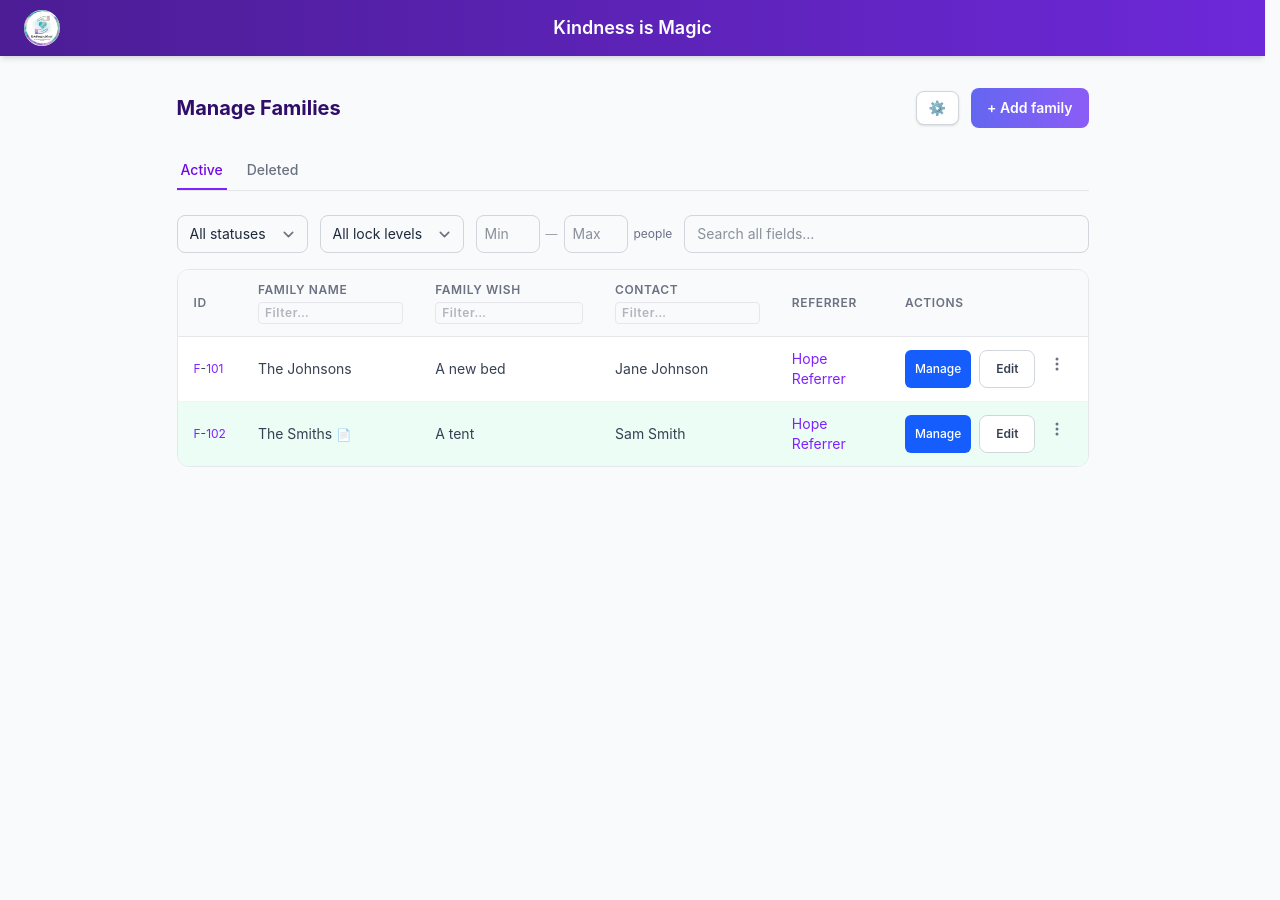
Test: AdminFamilies › row Send email opens the composer prefilled with the family contact email
Expected: the text "The Johnsons" is shown, [242, 336, 419, 402]
Step 1. Click the button named "More actions" in the row of "101" → [1058, 364], box [1044, 350, 1072, 378]
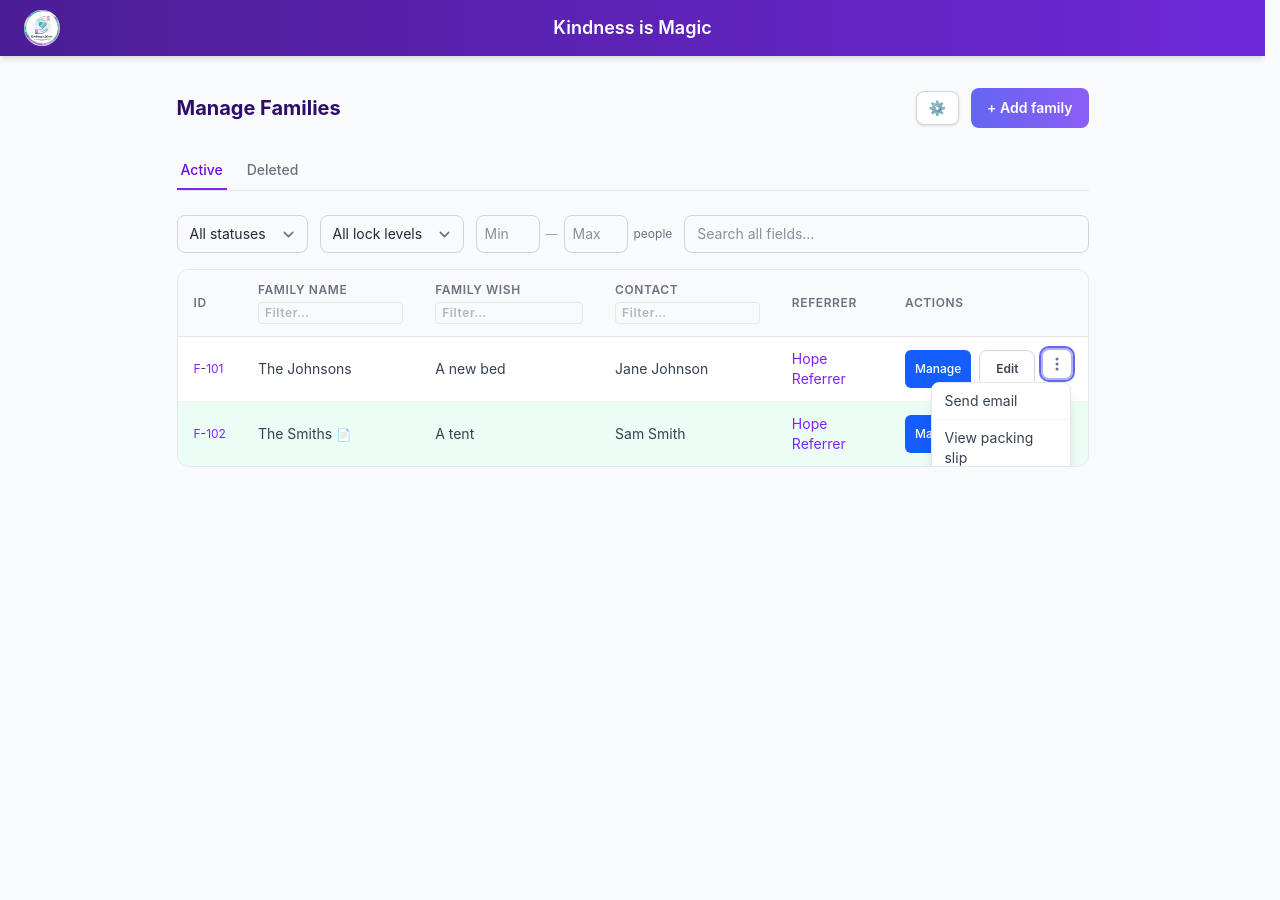
Step 2. Click the menu item "Send email" → [1002, 401], box [932, 383, 1070, 419]
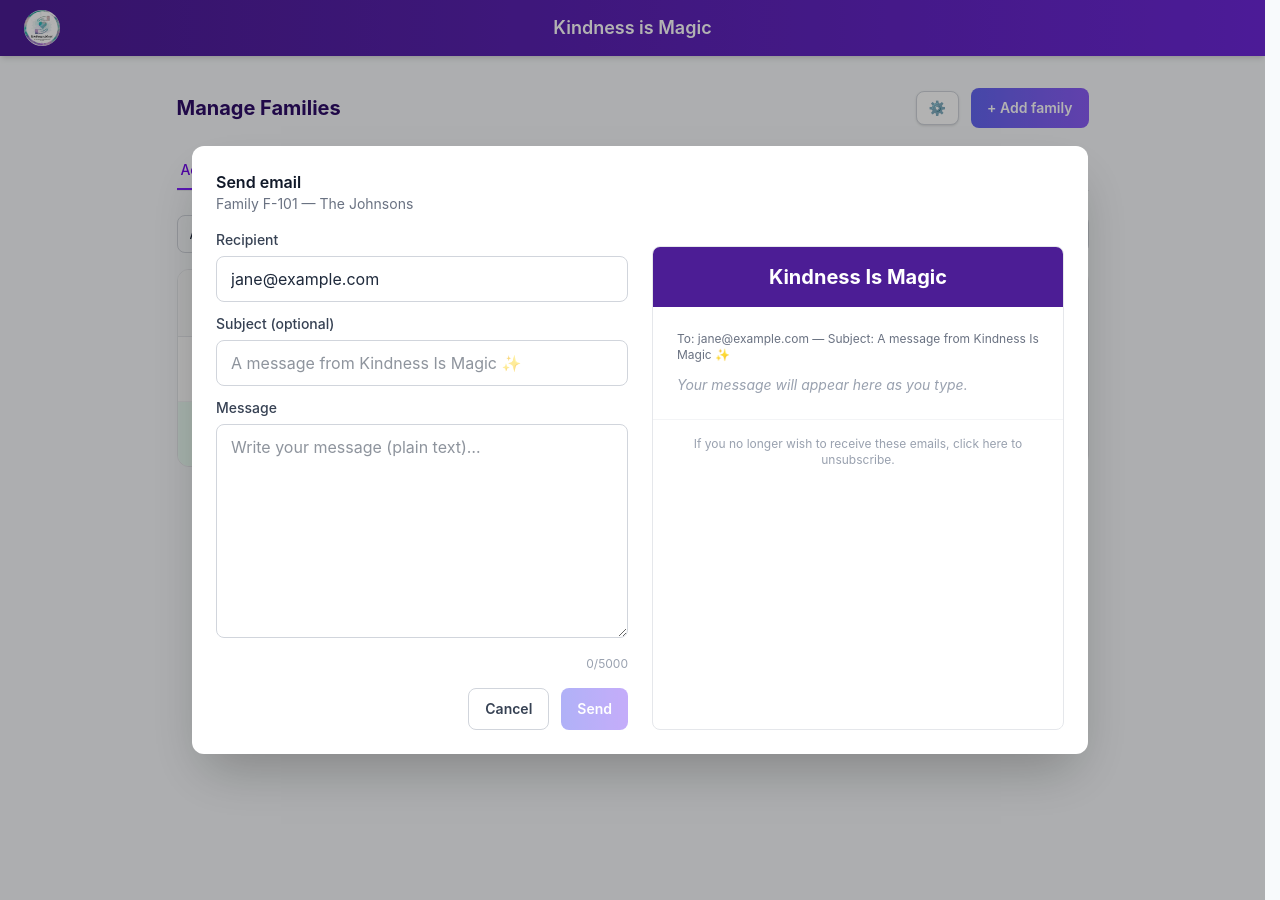
Expected: the heading "Send email" is shown, [216, 172, 301, 192]
Expected: the text "Family F-101 — The Johnsons" is shown, [216, 195, 413, 212]
Expected: the field labelled "Recipient" holds "jane@example.com", [216, 256, 628, 302]
